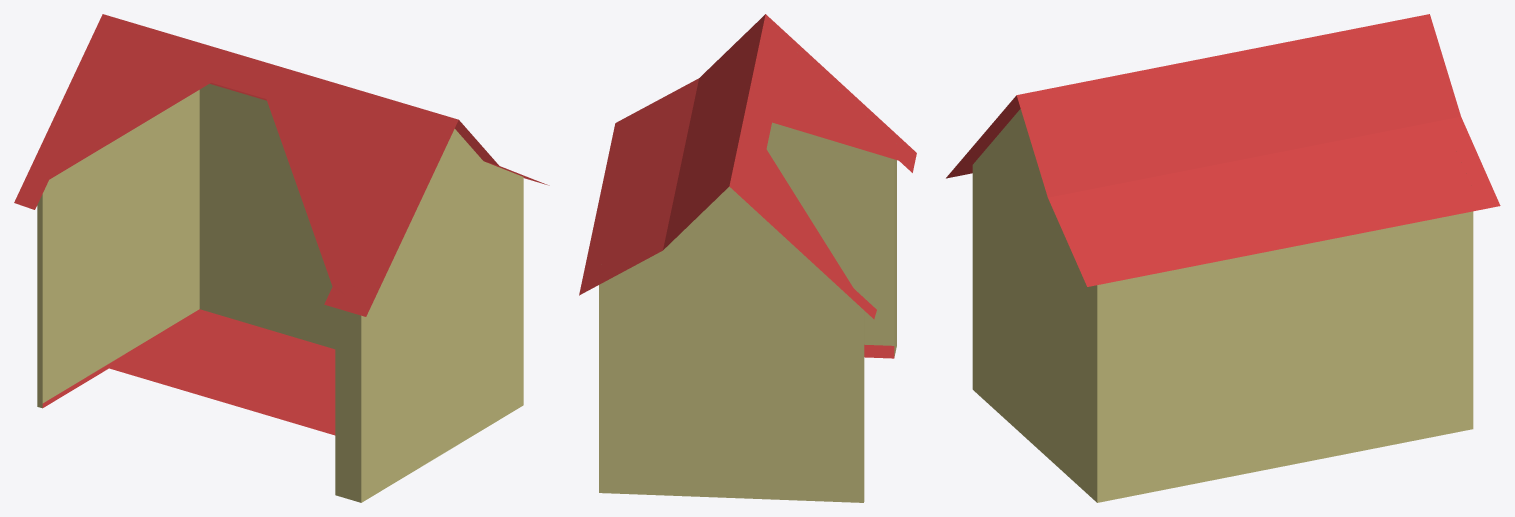
3 renders of one model, left to right at view 1: azimuth 30°, elevation 25°; view 2: azimuth 150°, elevation 25°; view 3: azimuth 270°, elevation 25°, orthographic. The views are drawn at different scales.
Size of the model in its own units: 17.92 by 20.27 by 14.3.
